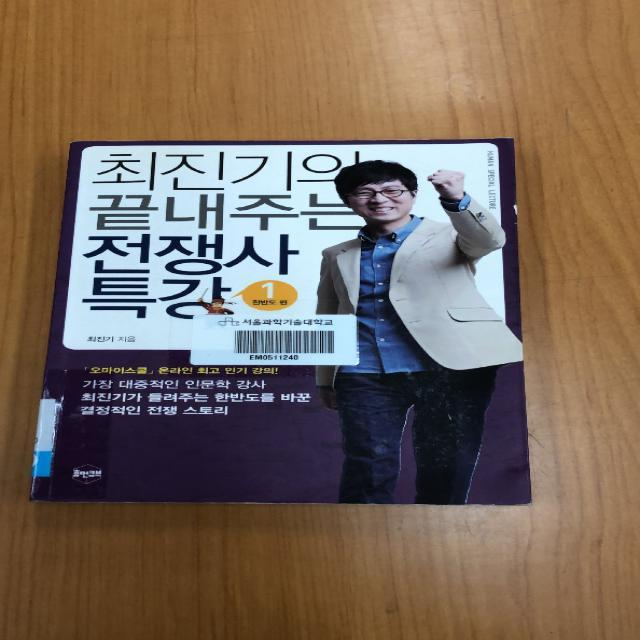Wornout: (167, 486, 337, 509), (26, 485, 151, 507), (427, 489, 539, 510), (66, 136, 128, 152), (507, 195, 527, 227)
